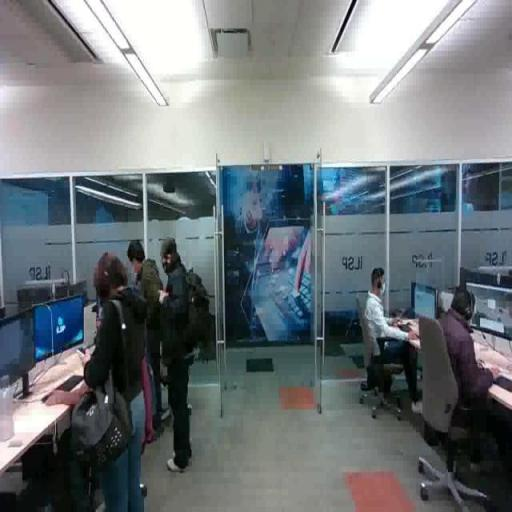person: (79, 252, 149, 512), (160, 236, 195, 473), (123, 242, 164, 434)
